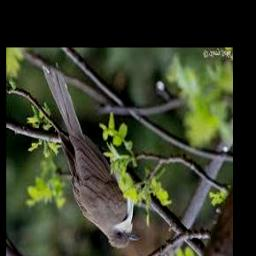Cuckoo: (42, 62, 140, 249)
